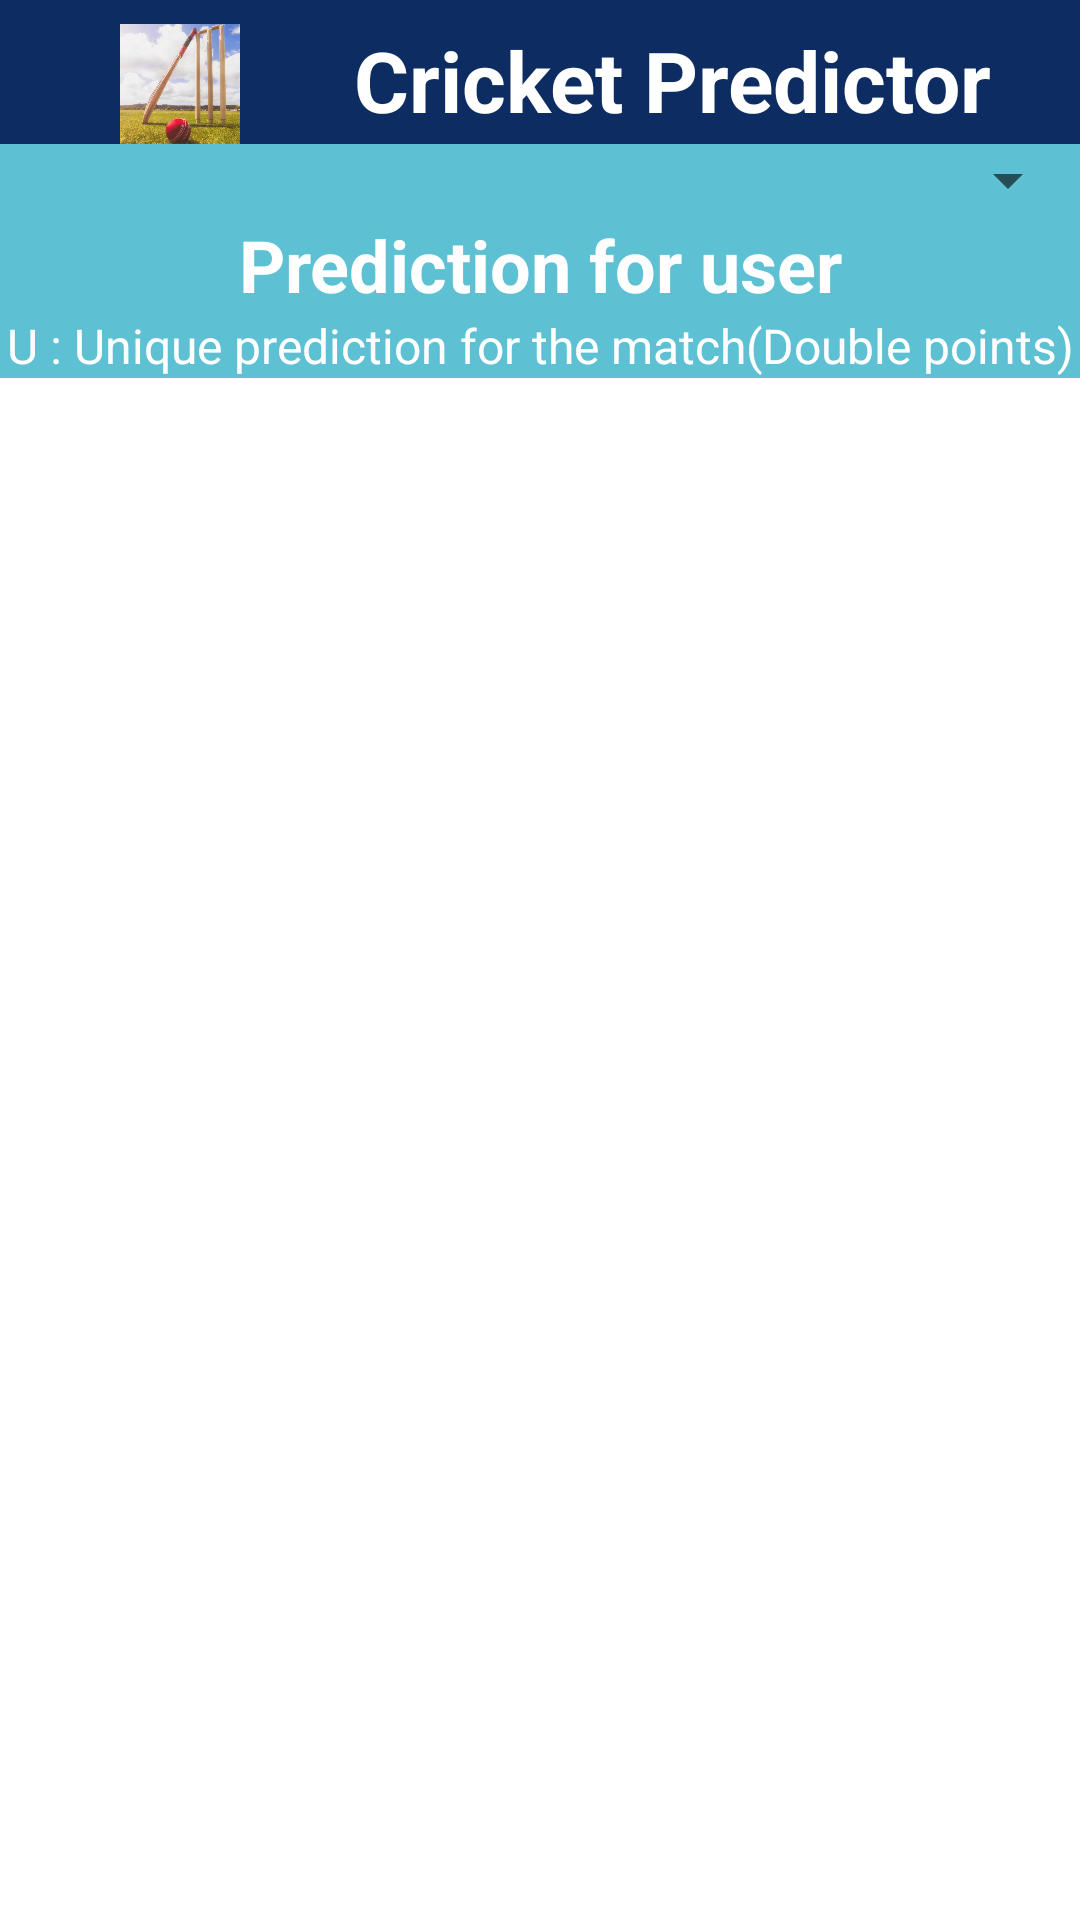

Icon click points for this 1080w x 1920h phone screenshot, format (x=x, y=y):
cricpredict: (x=180, y=84)
